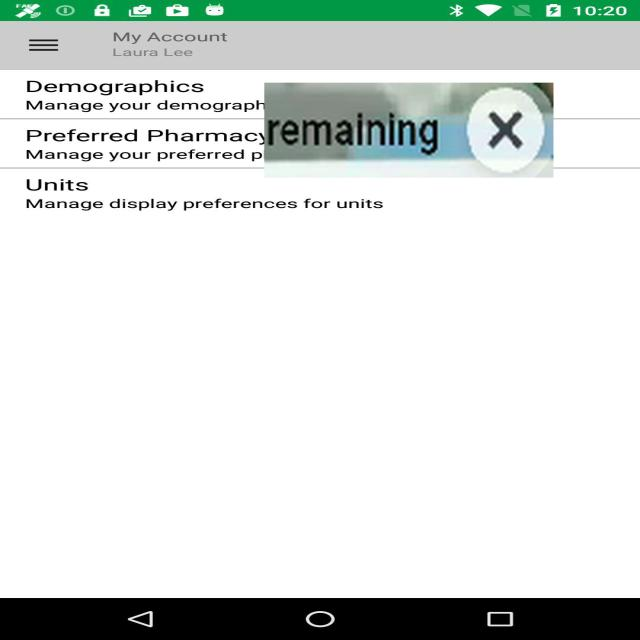misdirection: (264, 82, 554, 178)
